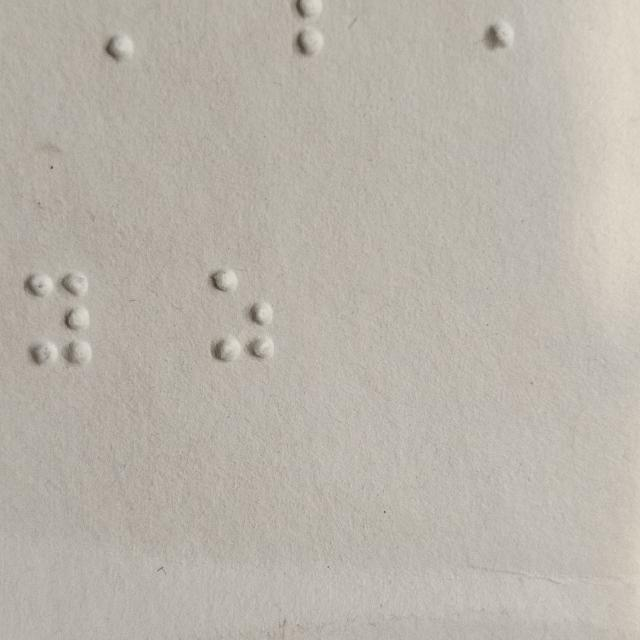sa: (208, 266, 276, 364)
yaman: (26, 271, 94, 369)
